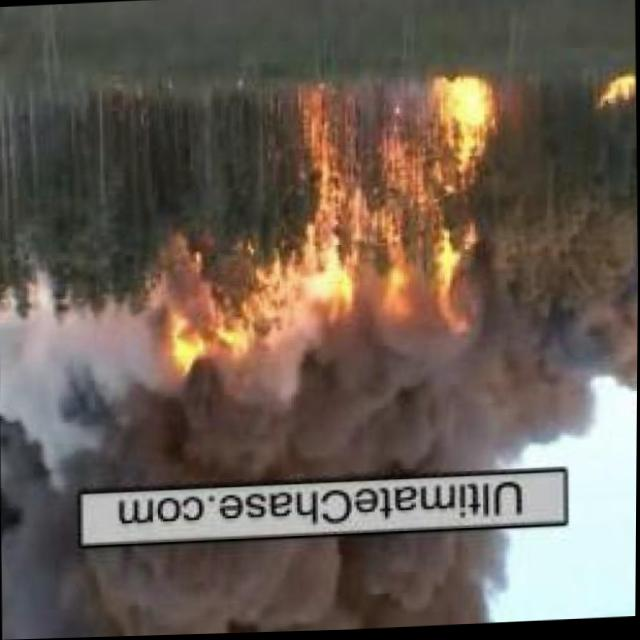Fire: (312, 76, 501, 356), (155, 262, 267, 399), (595, 70, 637, 118)
